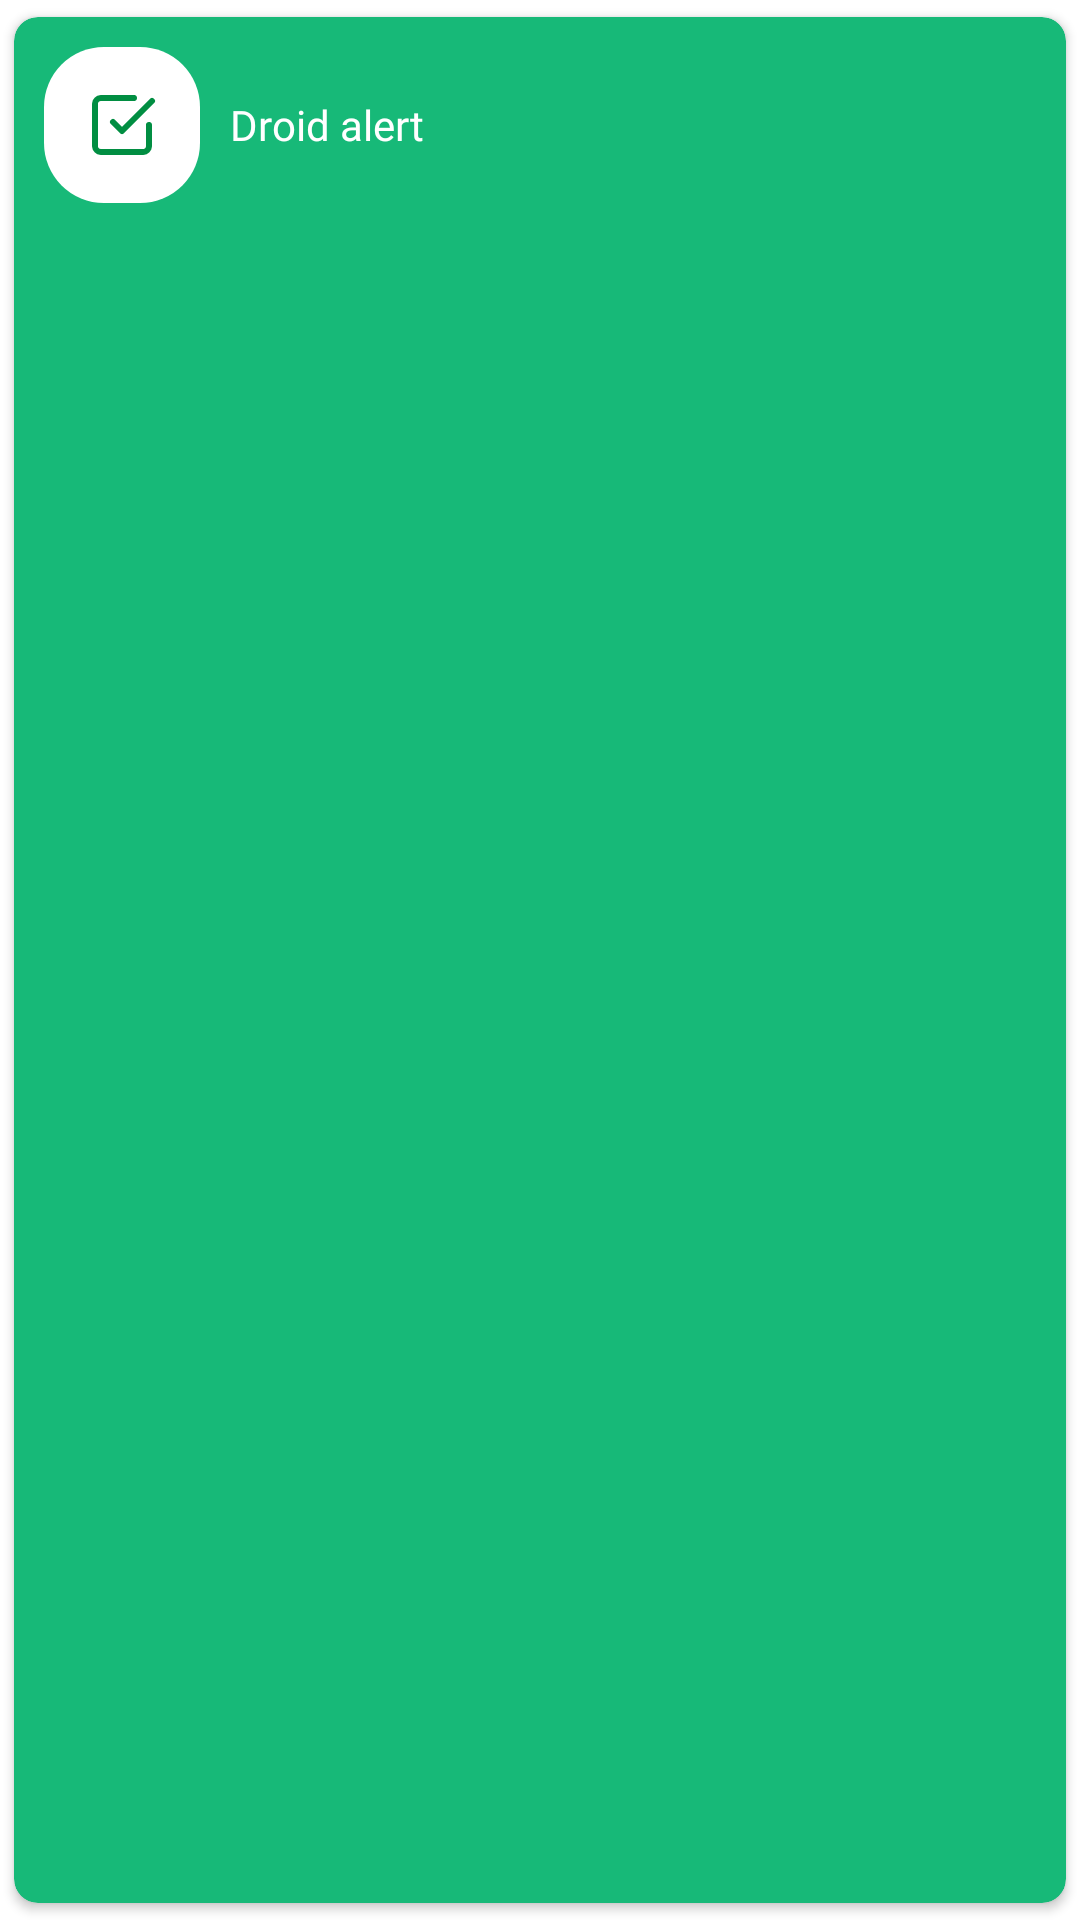

Where icons sit on this 1080 × 1920 app screen, as rect(x1, y1, x2, y2):
check square: rect(44, 47, 200, 203)
